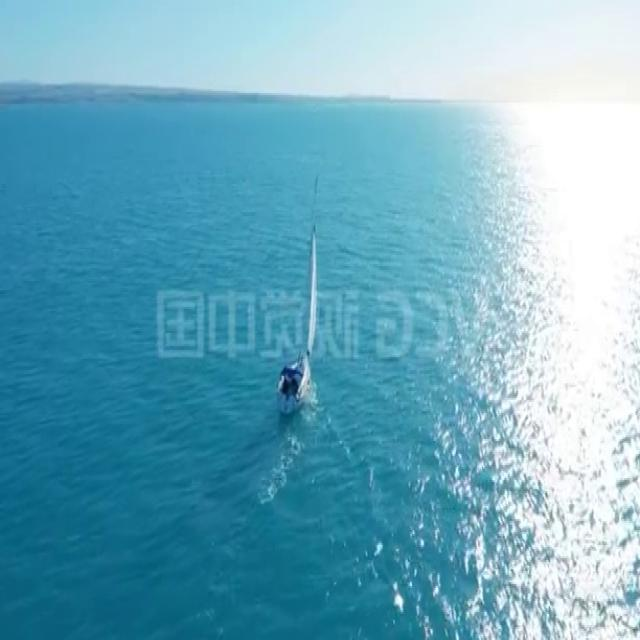sailboat: (274, 168, 326, 412)
